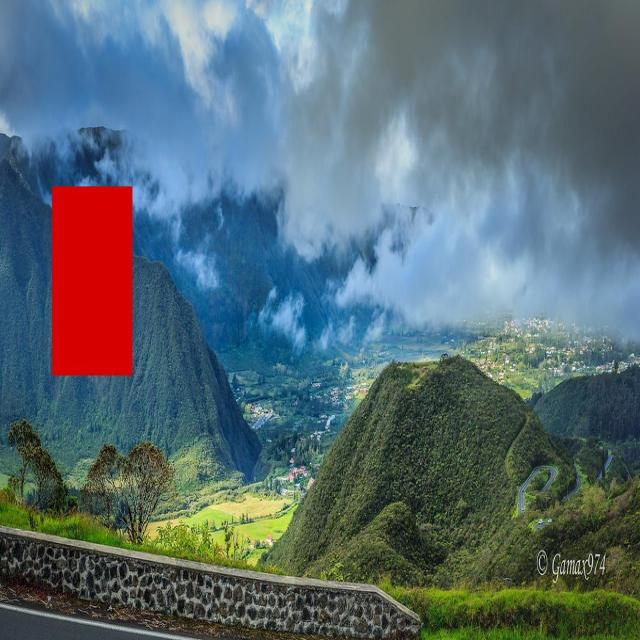RedSquare: (47, 178, 136, 384)
